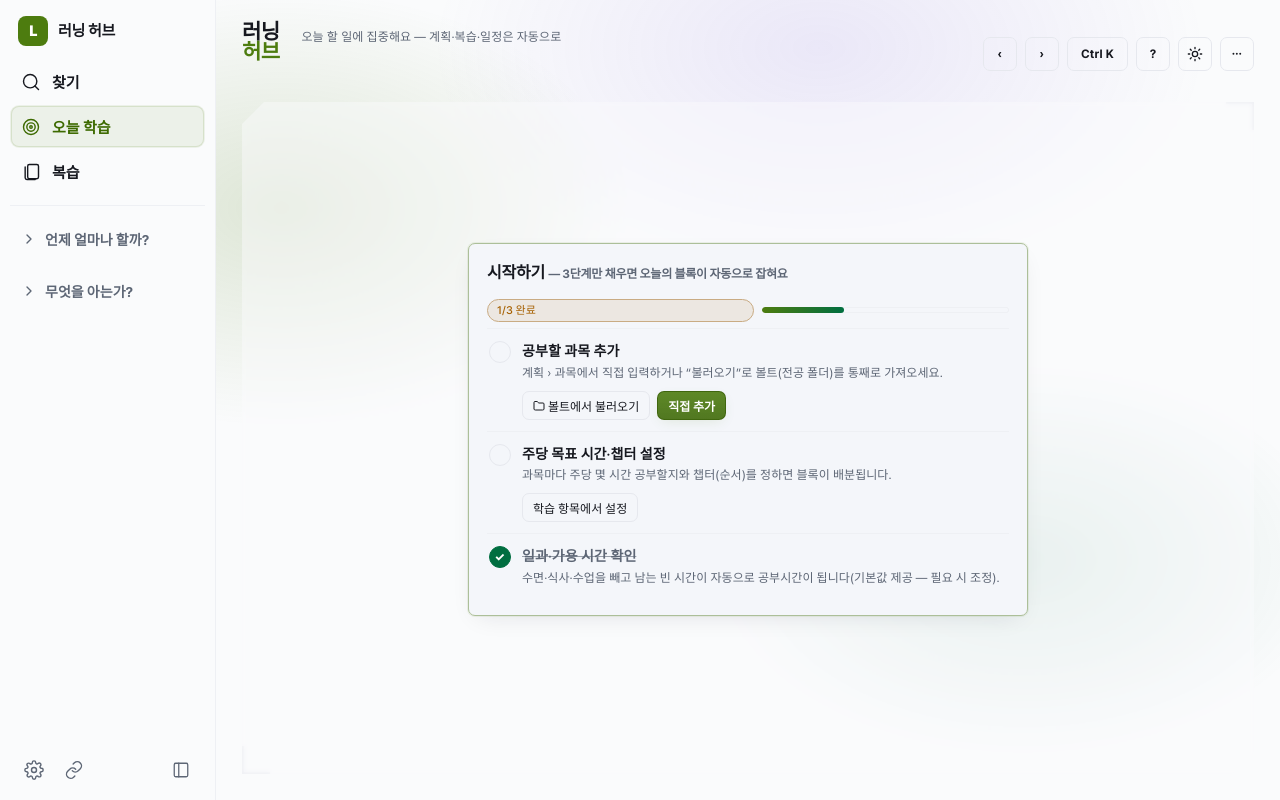
테마 토글: <html data-theme> 다크↔라이트 + 토스트
Click the button named "테마 전환": (1195, 54) [1178,37,1212,71]
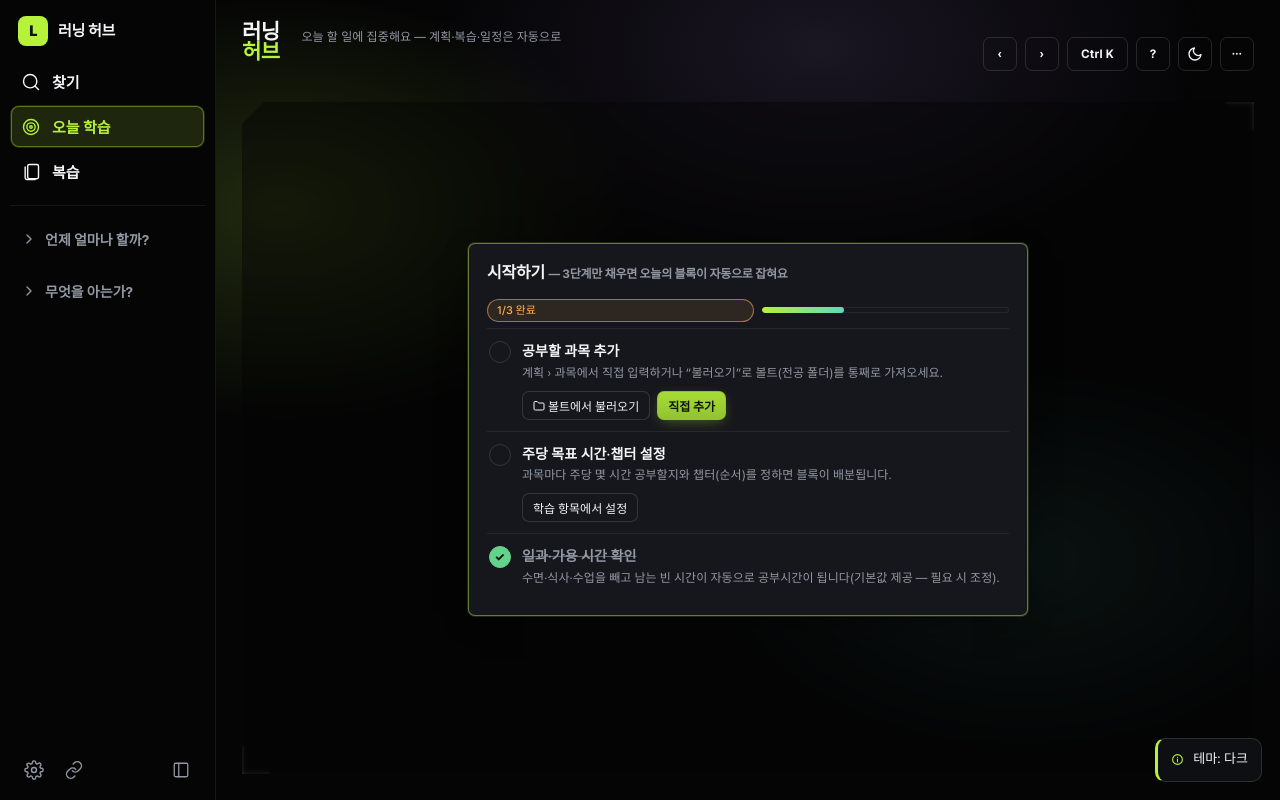
Check: the text "테마:" is shown 2 times
